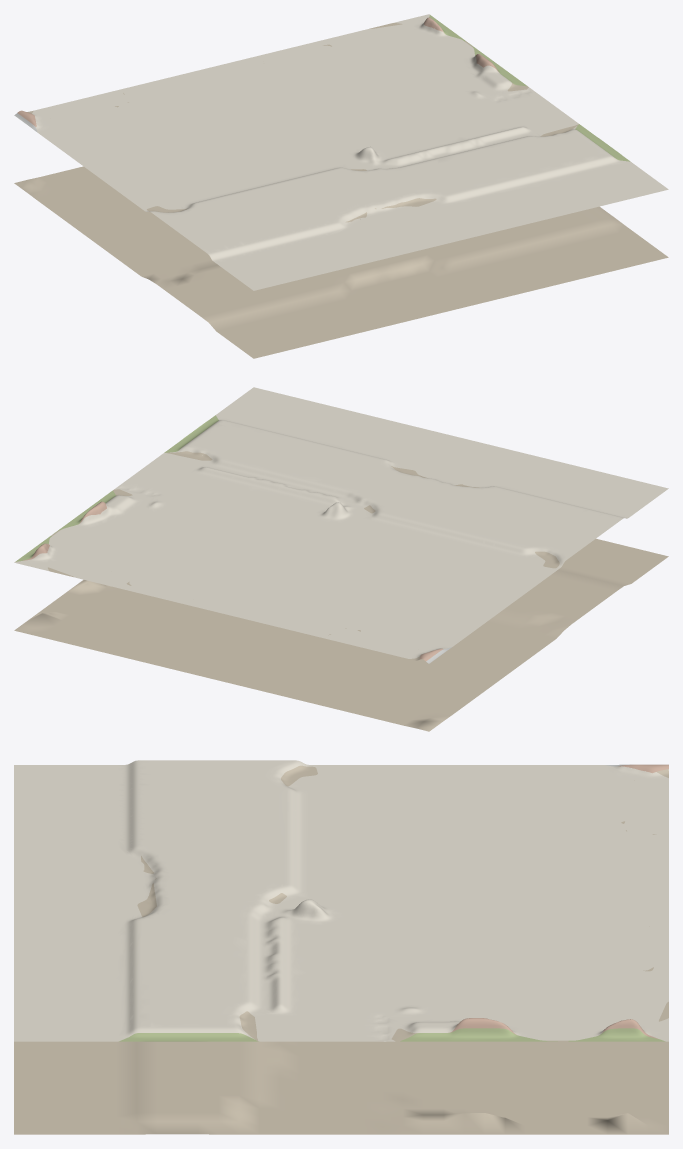
The picture shows the model from 3 angles, top to bottom: view 1: azimuth 30°, elevation 25°; view 2: azimuth 150°, elevation 25°; view 3: azimuth 270°, elevation 25°; orthographic projection. The views are drawn at different scales.
Visible parts, largest first — view 1: s_0_-1__paving, s_0_-1__soil, s_0_-1__grass; view 2: s_0_-1__paving, s_0_-1__soil, s_0_-1__grass; view 3: s_0_-1__paving, s_0_-1__soil, s_0_-1__grass, s_0_-1__brick_paving.
Part boxes in pixels (<box>): s_0_-1__paving: <box>32,14,668,290</box>; s_0_-1__soil: <box>14,23,668,358</box>; s_0_-1__grass: <box>429,15,630,161</box>; s_0_-1__paving: <box>14,387,668,658</box>; s_0_-1__soil: <box>14,451,668,731</box>; s_0_-1__grass: <box>15,415,218,561</box>; s_0_-1__paving: <box>14,760,668,1041</box>; s_0_-1__soil: <box>14,765,668,1134</box>; s_0_-1__grass: <box>119,1028,665,1041</box>; s_0_-1__brick_paving: <box>450,764,668,1038</box>.
Bounding box in the file's own units: 128 × 23.09 × 128.
